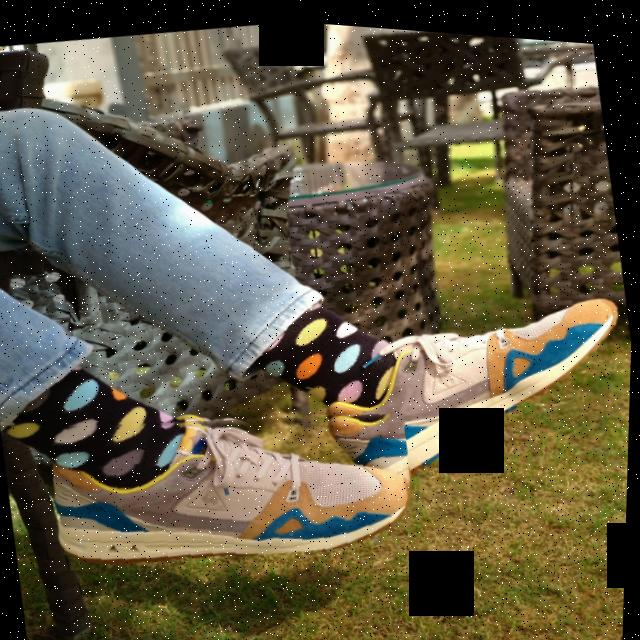shoe: (32, 369, 426, 593), (304, 265, 634, 497)
